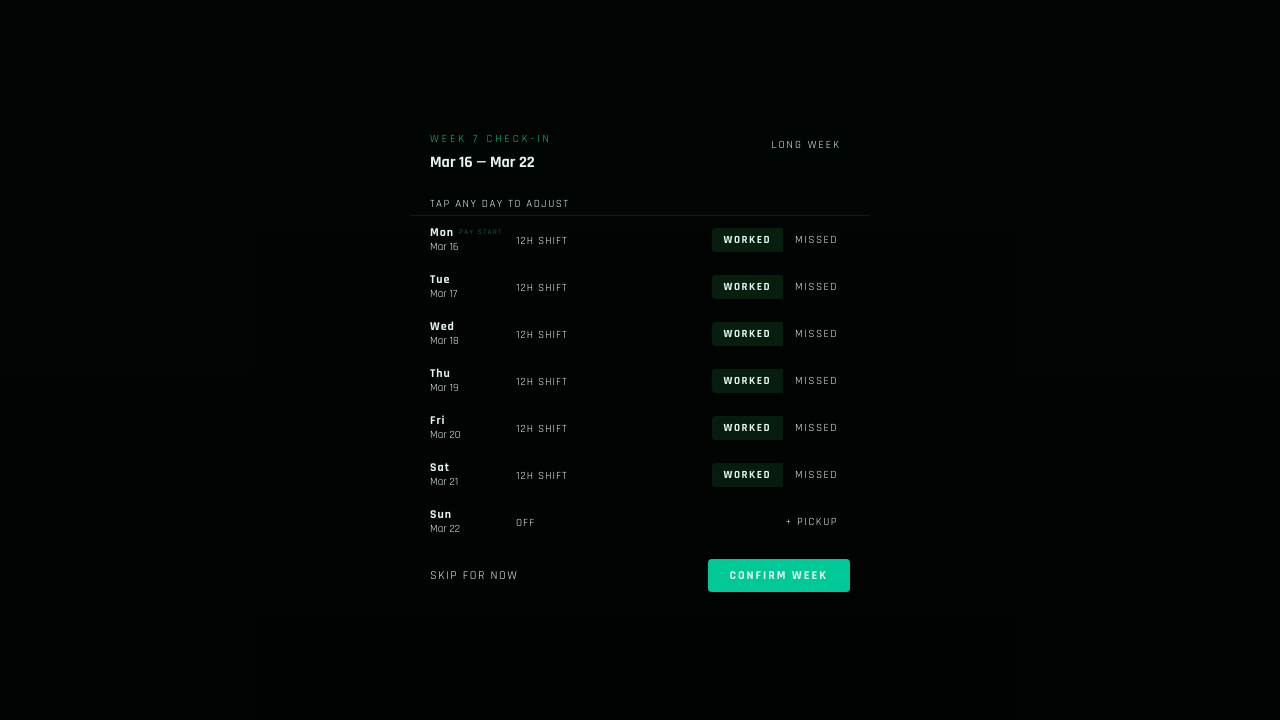
Test: WeekConfirmModal — Layer 1 day toggles › toggling pickup on an unscheduled day shows "+ 1 pickup" in summary
Click the button "+ Pickup".
click(812, 522)  # box left=773, top=510, right=850, bottom=534
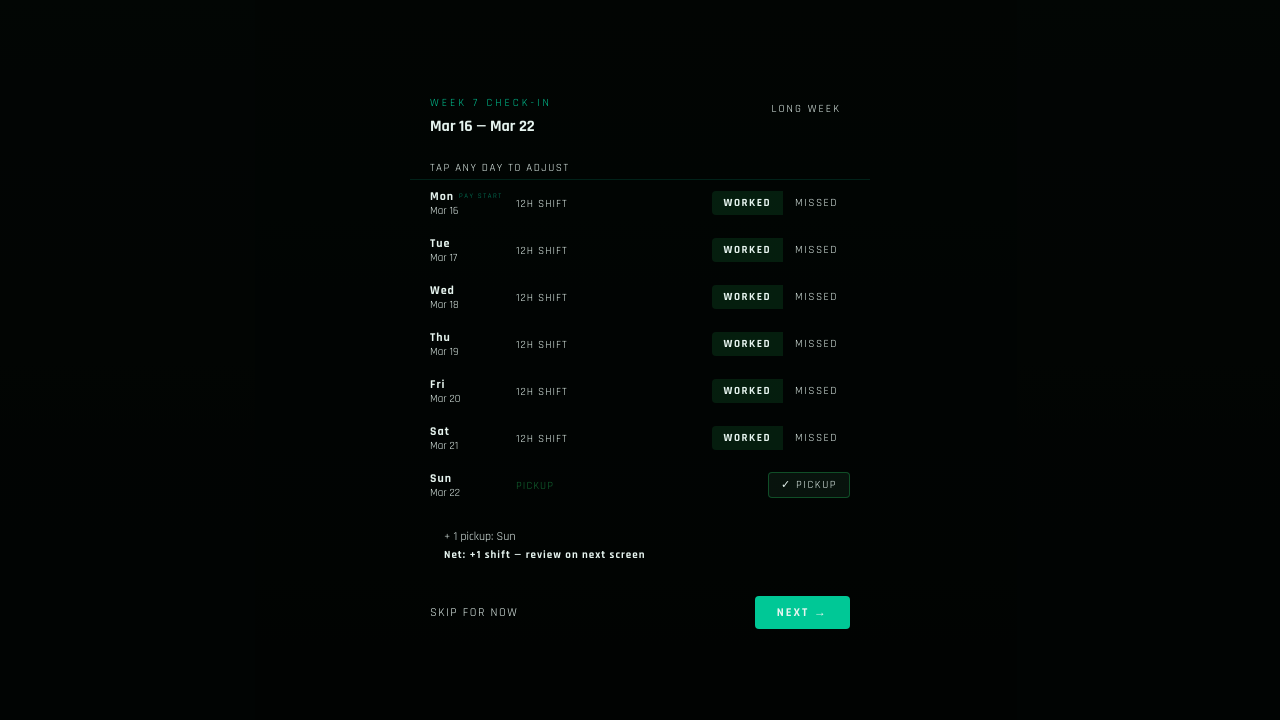
Expected: the text "+ 1 pickup: Sun" is shown, left=444, top=528, right=516, bottom=544
